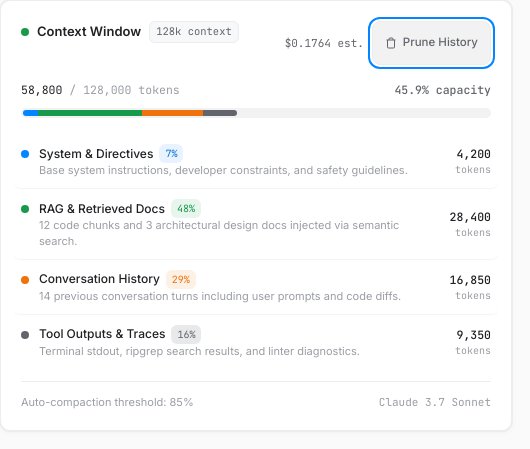
Test: ContextWindow › reports pruned and restored capacity without changing the toggle name
Click the button "Prune History": (431,43) [372, 21, 491, 65]
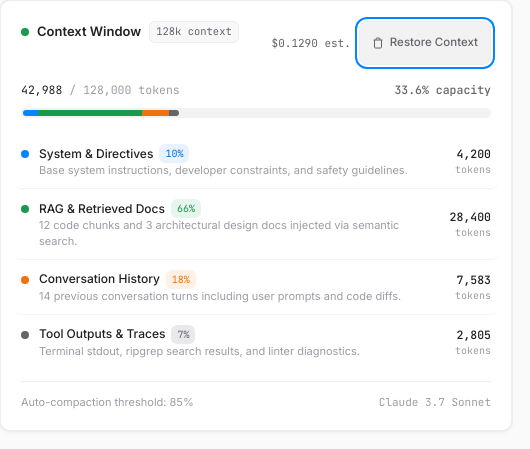
Expected: the button "Restore Context" is shown
Expected: the text "7,583" is shown, [456, 271, 491, 288]
Expected: the text "2,805" is shown, [456, 326, 491, 343]
Click the button "Restore Context": (425,43) [359, 21, 491, 65]
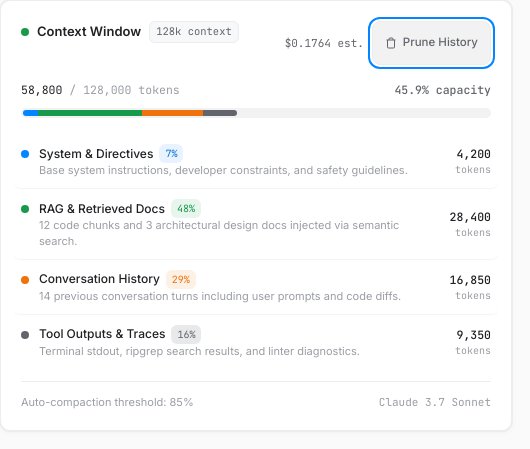
Expected: the text "16,850" is shown, [450, 271, 491, 288]
Expected: the text "9,350" is shown, [456, 326, 491, 343]
